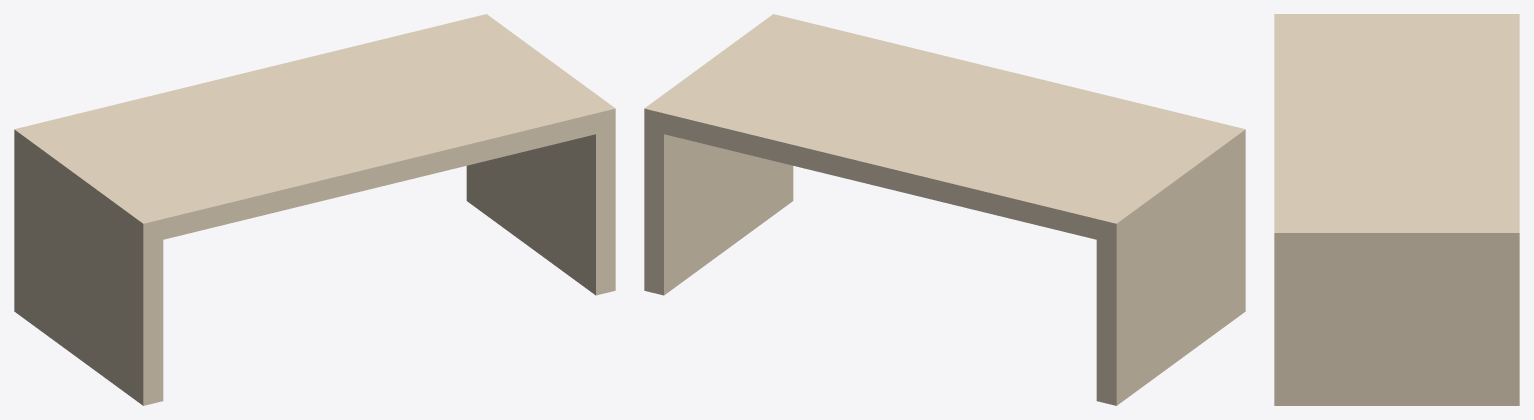
File: 400_センターテーブル.glb
The picture shows the model from 3 angles, left to right: view 1: azimuth 30°, elevation 25°; view 2: azimuth 150°, elevation 25°; view 3: azimuth 270°, elevation 25°; orthographic projection. The views are drawn at different scales.
Parts seen in each view (by area): view 1: 400_センターテーブル; view 2: 400_センターテーブル; view 3: 400_センターテーブル.
Part boxes in pixels (x1=…): 400_センターテーブル: x1=14, y1=14, x2=615, y2=405; 400_センターテーブル: x1=644, y1=14, x2=1245, y2=405; 400_センターテーブル: x1=1274, y1=14, x2=1519, y2=405.
Bounding box in the file's own units: 0.95 × 0.35 × 0.45.
